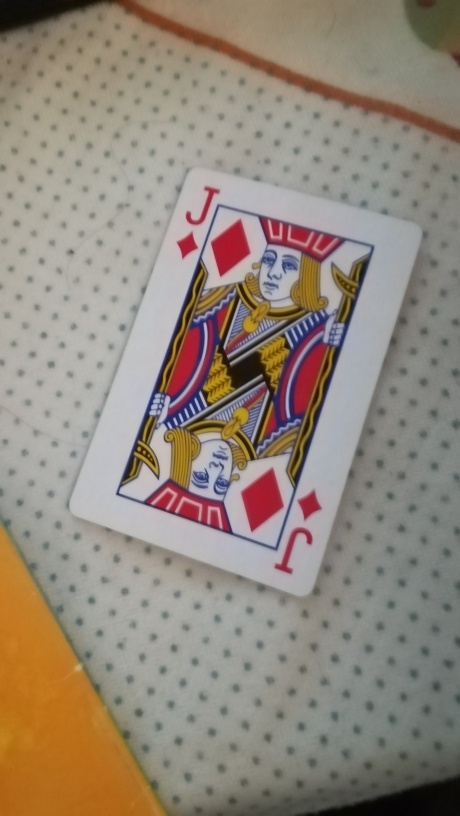fk j: (69, 161, 431, 596)
